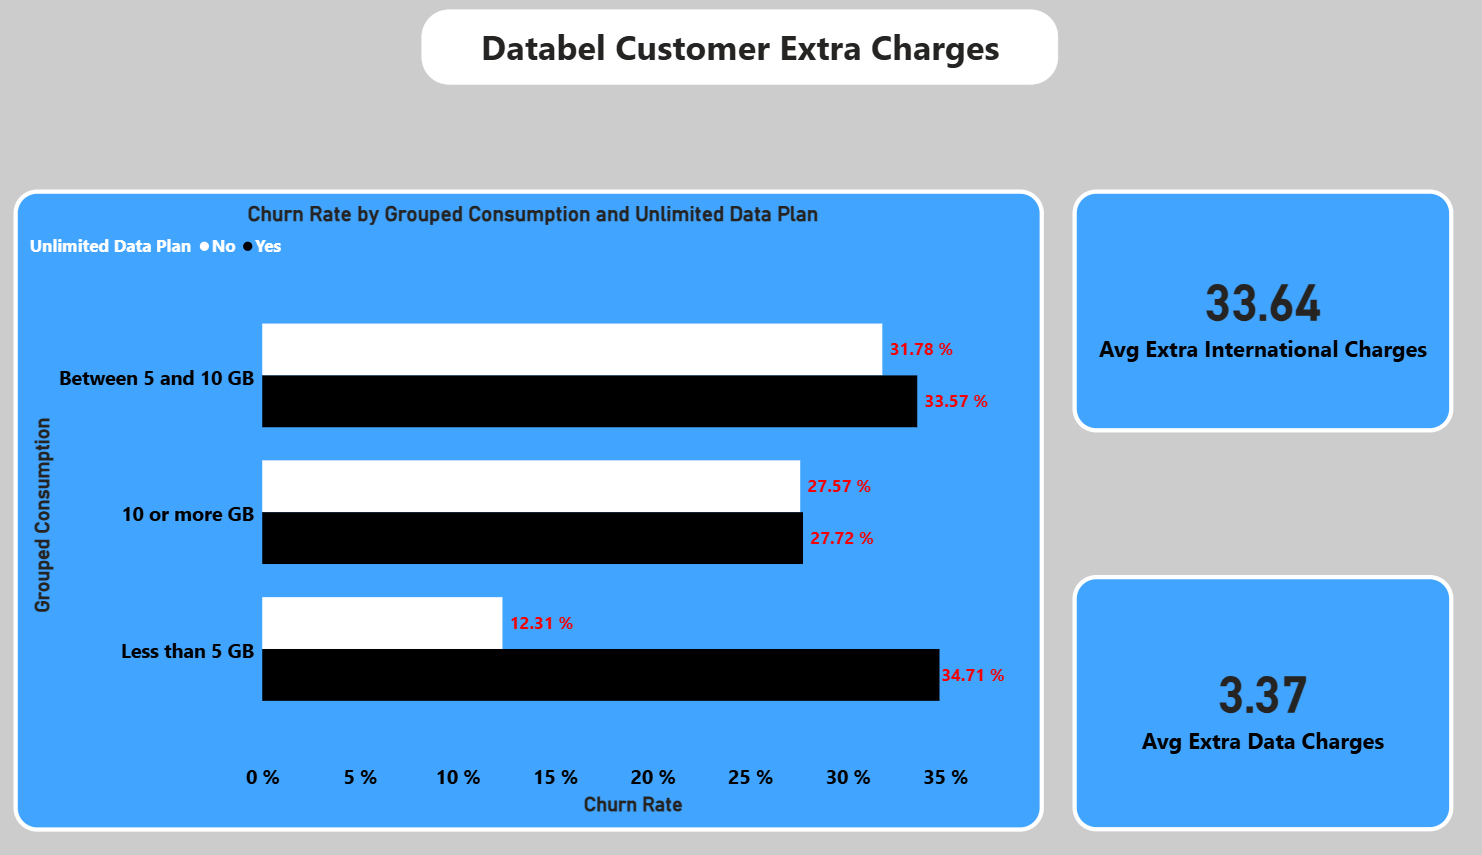

The dashboard page shown, as its layout file describes it:
{"tool":"powerbi","page":{"name":"Extra Charges","canvas":[1640,960],"ordinal":4},"visuals":[{"type":"clusteredBarChart","fields":{"Category":["Databel - Data.Grouped Consumption"],"Y":["Databel - Data.Churn Rate"],"Series":["Databel - Data.Unlimited Data Plan"]},"box":[24.6,214.6,1125.5,701.2],"z":0},{"type":"card","fields":{"Values":["Databel - Data.Avg Extra International Charges"]},"box":[1181.2,214.6,416.1,265.4],"z":1000},{"type":"card","fields":{"Values":["Databel - Data.Avg Extra Data Charges"]},"box":[1181.2,635.6,416.1,280.1],"z":2000},{"type":"textbox","box":[470,18.3,695,81.7],"z":3000}]}

Visuals, with their boxes in screenshot pixels (x1, y1, x2, y2), scaled from the page's 1640x960 canvas onto the 1482x855 screenshot:
clusteredBarChart - Databel - Data.Grouped Consumption x Databel - Data.Churn Rate: 22, 191, 1039, 816
card - Databel - Data.Avg Extra International Charges: 1067, 191, 1443, 428
card - Databel - Data.Avg Extra Data Charges: 1067, 566, 1443, 816
textbox: 425, 16, 1053, 89
